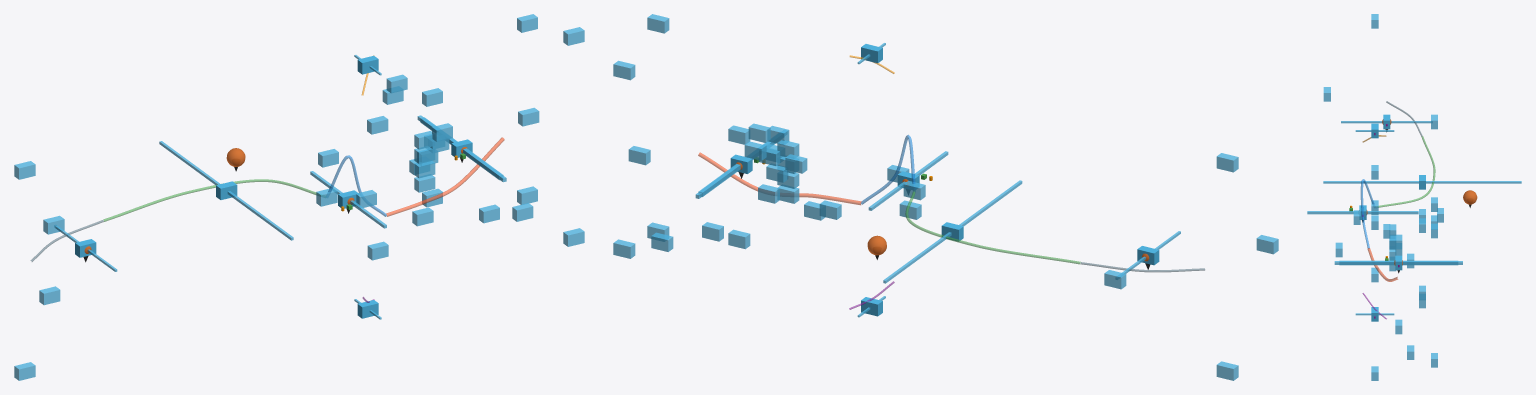
File: pajero_pinin_2001_electrical.glb
3 views of the same model, side by side, from view 1: azimuth 30°, elevation 25°; view 2: azimuth 150°, elevation 25°; view 3: azimuth 270°, elevation 25° (orthographic). The views are drawn at different scales.
Parts seen in each view (by area): view 1: components, harnesses; view 2: components, harnesses; view 3: components, harnesses.
Boxes of the visible parts, <box> form: components: <box>14,14,584,380</box>; harnesses: <box>30,55,504,302</box>; components: <box>613,14,1278,380</box>; harnesses: <box>698,55,1204,309</box>; components: <box>1307,14,1521,380</box>; harnesses: <box>1360,101,1435,319</box>.
Bounding box in the file's own units: 4.17 × 1.78 × 1.8.
